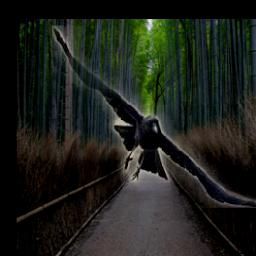Crow: (53, 26, 256, 209)
